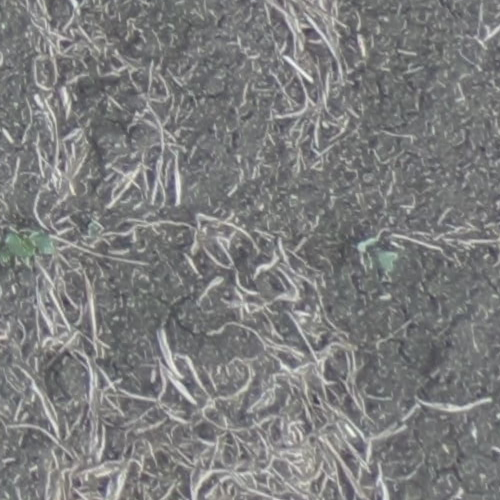clumped: (0, 229, 51, 267)
isolated: (358, 235, 397, 273)
